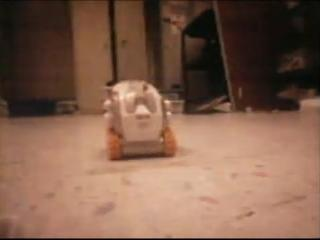cozmo: (101, 78, 178, 160)
